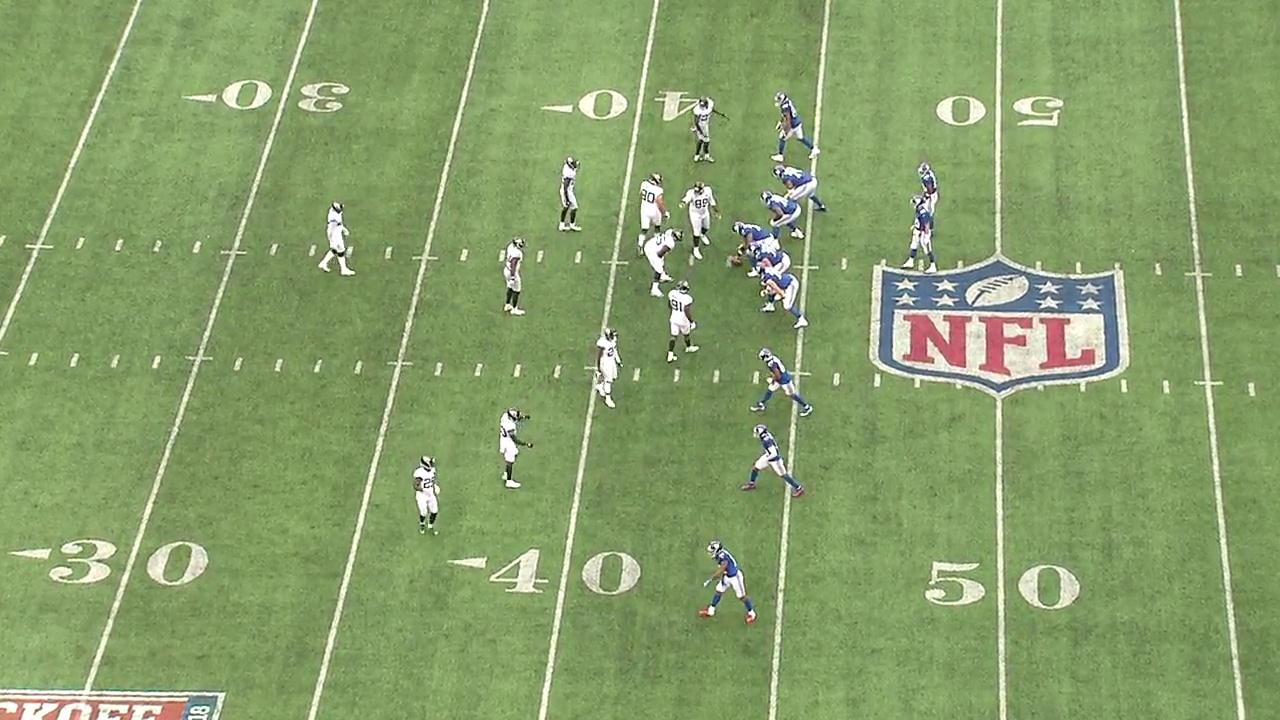defense: (314, 199, 359, 278), (679, 182, 723, 259), (497, 406, 534, 492), (635, 171, 671, 256), (591, 326, 626, 413), (644, 228, 687, 298), (666, 281, 701, 363), (690, 95, 731, 164), (411, 454, 443, 542), (498, 234, 527, 321), (555, 155, 585, 234)
oline: (758, 264, 808, 328), (772, 165, 827, 215), (761, 190, 806, 241), (729, 222, 776, 267), (748, 241, 790, 274)
qb: (904, 196, 938, 274)
skill: (694, 542, 758, 624), (739, 425, 805, 500), (749, 349, 814, 417), (768, 92, 822, 165), (919, 161, 939, 221)
